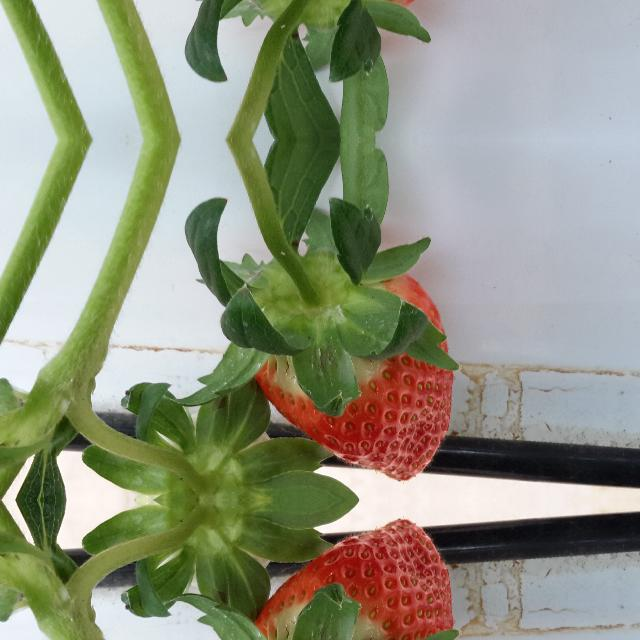Health_100: (254, 273, 452, 481), (254, 519, 452, 640)
